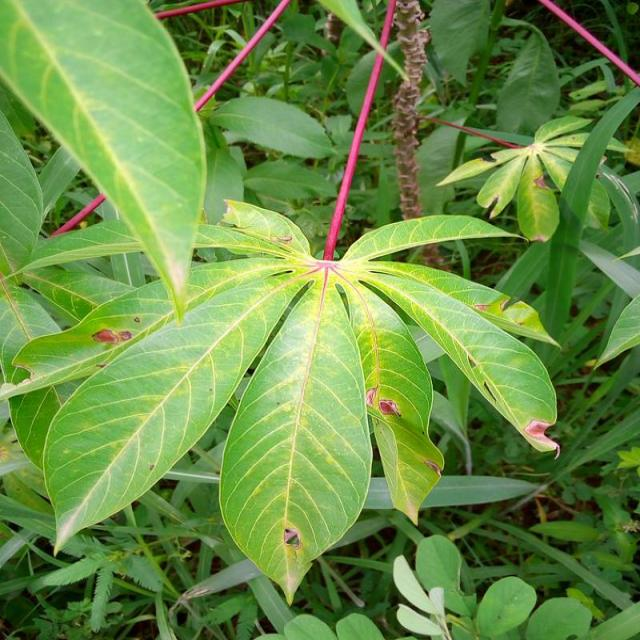cassava leaf: (19, 196, 562, 603), (0, 0, 207, 322), (218, 266, 374, 604)
